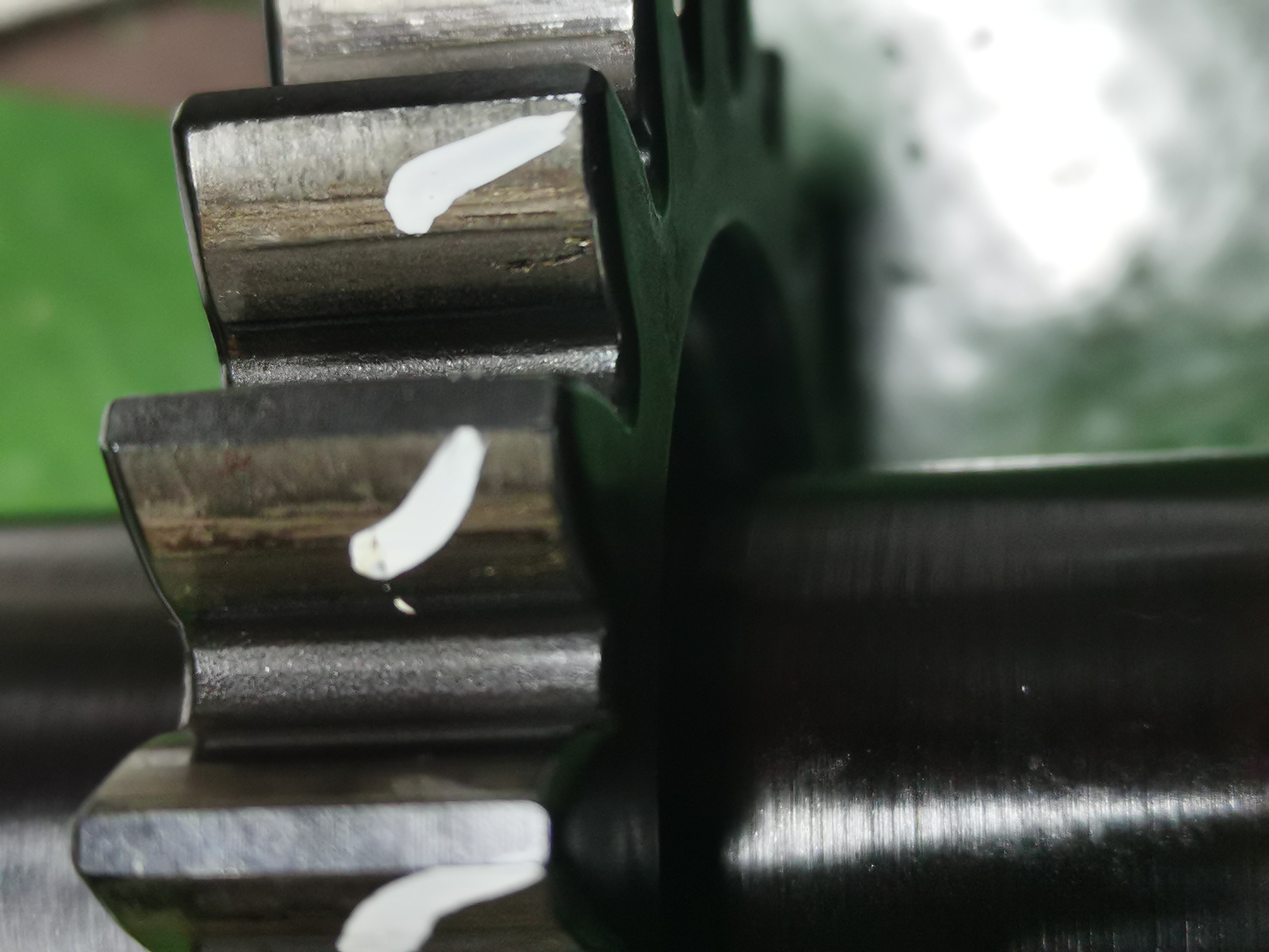Abrasion: (162, 106, 619, 321), (87, 427, 605, 601)
